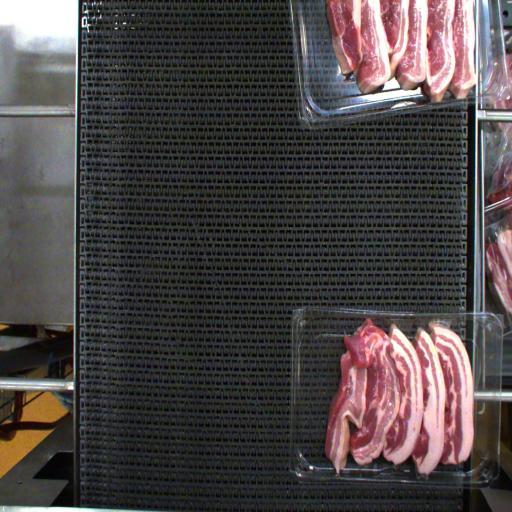packaging-error: (430, 310, 454, 330)
